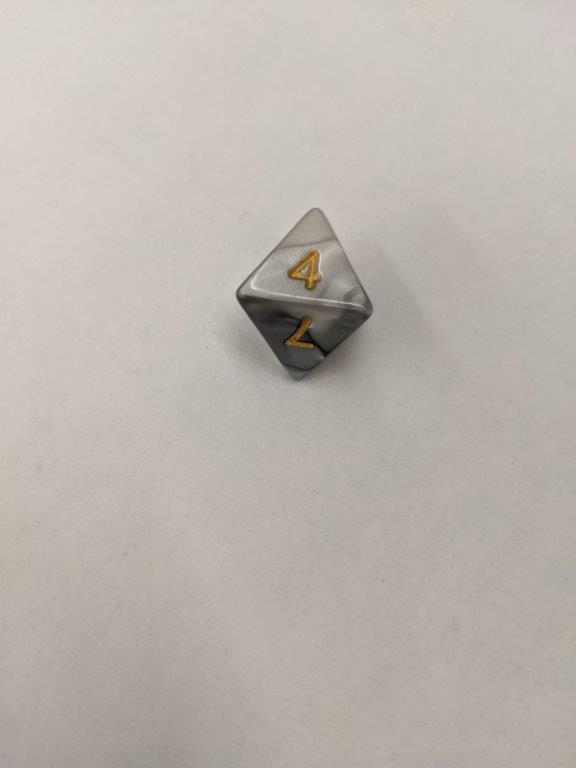d8-4: (235, 206, 378, 383)
